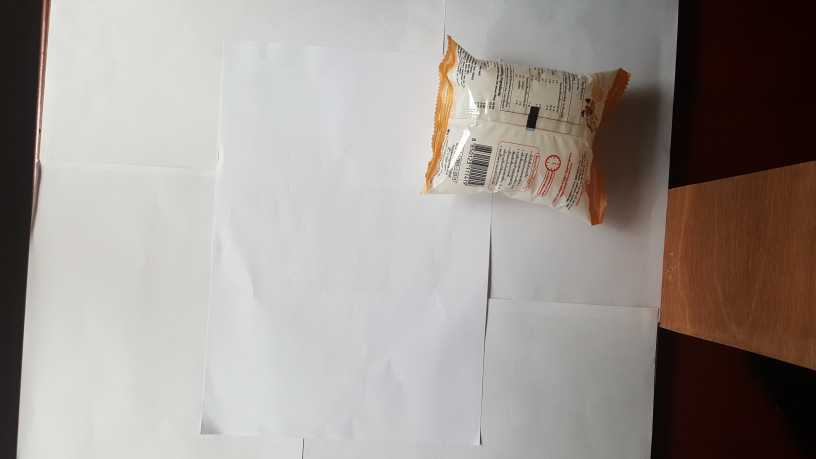farmhouse-sweetsandwich-almond: (419, 31, 635, 231)
